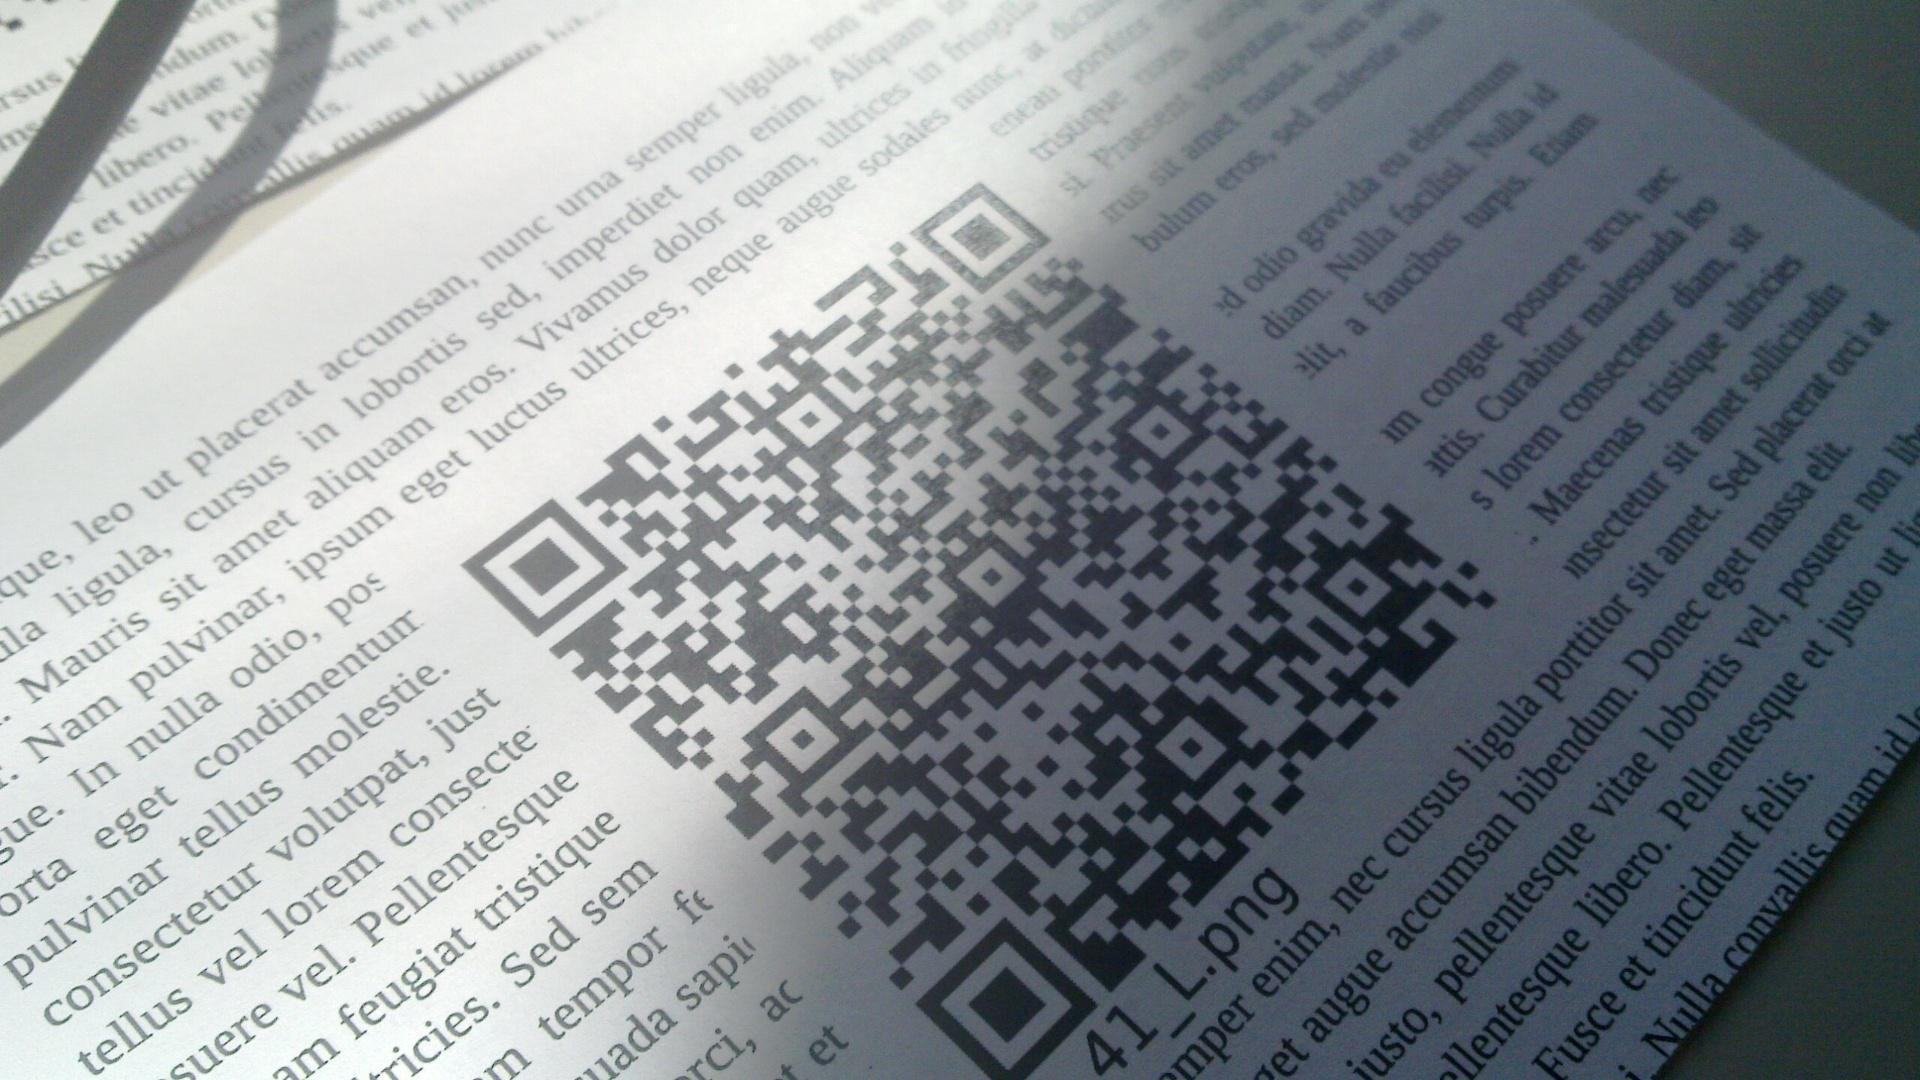qr_code: (462, 179, 1501, 1080)
